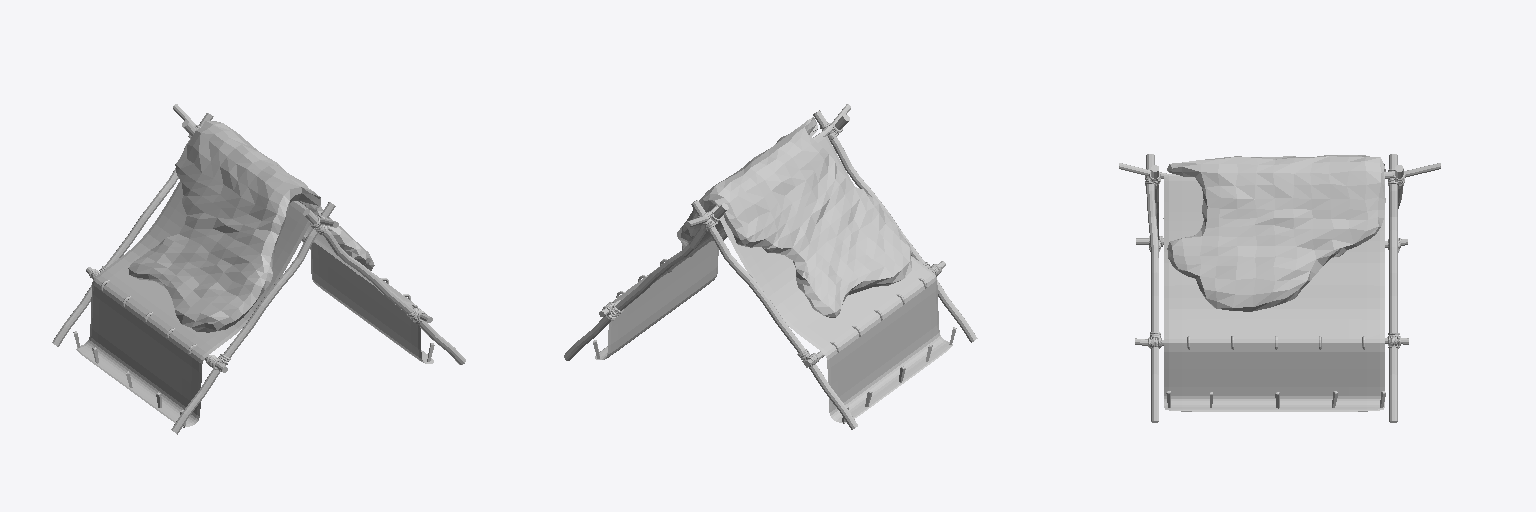
File: lowpoly_viking_tent_002.obj
3 renders of one model, left to right at view 1: azimuth 30°, elevation 25°; view 2: azimuth 150°, elevation 25°; view 3: azimuth 270°, elevation 25°, orthographic.
Visible parts, largest first — view 1: Cylinder.001, Cylinder.026, Cylinder.012, Cylinder.013, Cylinder.010, BezierCircle.104; view 2: Cylinder.026, Cylinder.001, Cylinder.010, Cylinder.009, Cylinder.012, BezierCircle.104; view 3: Cylinder.026, Cylinder.001, Cylinder.009, Cylinder.013, BezierCircle.104, Cylinder.011.
Boxes of the visible parts, x1,y1,x2,y2 form: Cylinder.001: [128, 121, 374, 332]; Cylinder.026: [76, 181, 433, 426]; Cylinder.012: [171, 202, 335, 434]; Cylinder.013: [303, 209, 465, 364]; Cylinder.010: [52, 113, 213, 346]; BezierCircle.104: [89, 125, 426, 371]; Cylinder.026: [595, 132, 952, 422]; Cylinder.001: [677, 117, 911, 317]; Cylinder.010: [691, 200, 857, 429]; Cylinder.009: [564, 203, 728, 360]; Cylinder.012: [813, 110, 977, 342]; BezierCircle.104: [602, 123, 941, 367]; Cylinder.026: [1164, 174, 1384, 411]; Cylinder.001: [1163, 155, 1385, 311]; Cylinder.009: [1389, 154, 1397, 422]; Cylinder.013: [1146, 154, 1158, 422]; BezierCircle.104: [1145, 169, 1404, 348]; Cylinder.011: [1119, 163, 1440, 178].
Bounding box in the file's own units: 7.45 × 4.84 × 7.06.